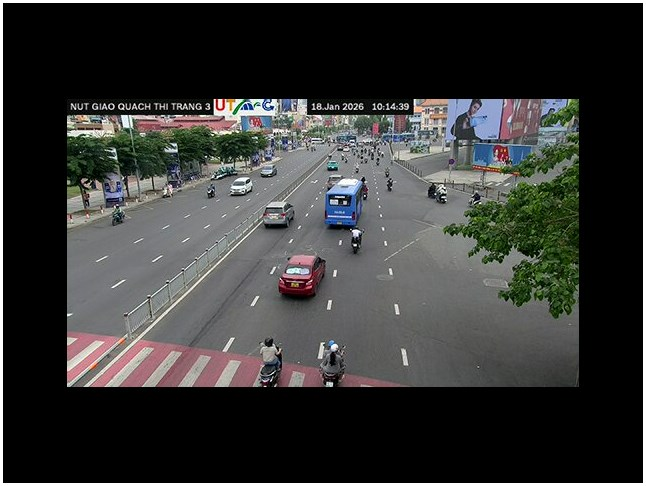car: (277, 253, 326, 298), (262, 202, 295, 228), (230, 176, 254, 197), (260, 163, 277, 177)
motorbike: (110, 204, 126, 226), (350, 227, 363, 254)
truck: (324, 178, 367, 229)
